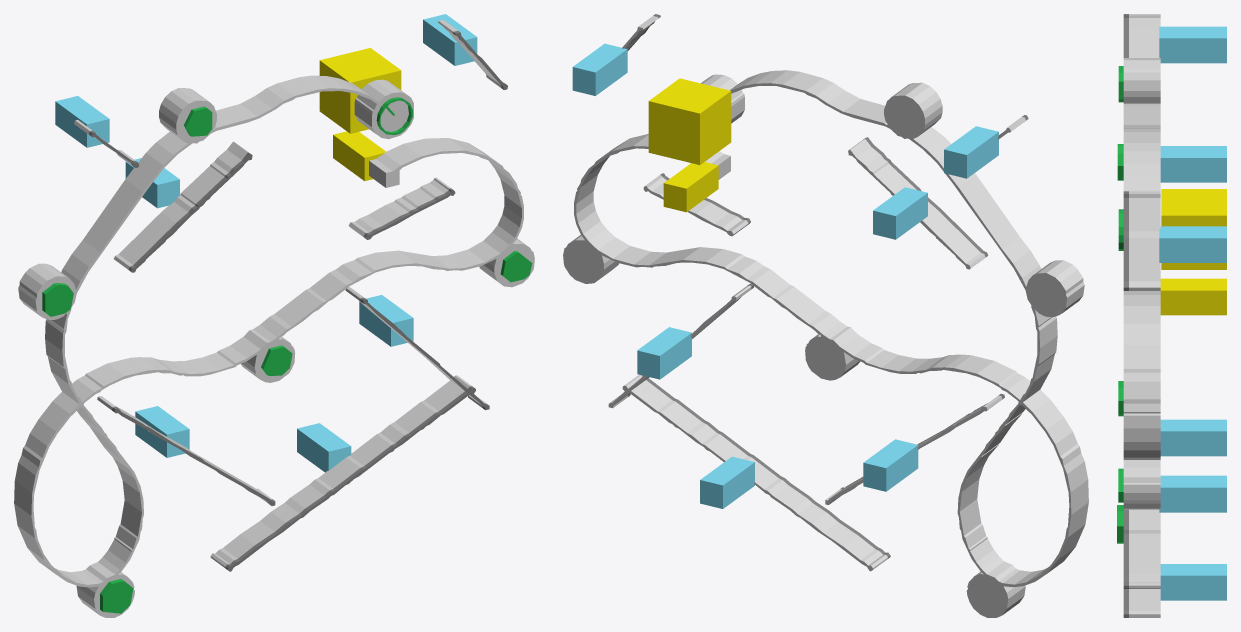
File: demoplanerv5_from_sreenshot13.obj
The picture shows the model from 3 angles, left to right: view 1: azimuth 30°, elevation 25°; view 2: azimuth 150°, elevation 25°; view 3: azimuth 270°, elevation 25°; orthographic projection. The views are drawn at different scales.
Visible parts, largest first — view 1: Object.1, Object.4, Object.26, Object.6, Object.10, Object.19, Object.15, Object.17, Object.5, Object.16, Object.18, Object.27 (+8 smaller); view 2: Object.1, Object.4, Object.26, Object.6, Object.18, Object.17, Object.14, Object.19, Object.15, Object.16, Object.27, Object.5 (+2 smaller); view 3: Object.1, Object.4, Object.3, Object.26, Object.19, Object.16, Object.17, Object.27, Object.18, Object.14, Object.15, Object.7 (+9 smaller).
Part boxes in pixels (x1,y1,x2,y2): Object.1: (14,75,534,617); Object.4: (210,287,486,568); Object.26: (319,48,401,133); Object.6: (114,141,248,269); Object.10: (225,297,489,571); Object.19: (55,96,109,147); Object.15: (297,423,351,472); Object.17: (135,406,189,457); Object.5: (348,177,450,237); Object.16: (359,295,413,346); Object.18: (423,14,477,65); Object.27: (333,131,385,181); Object.1: (563,70,1088,617); Object.4: (608,285,887,571); Object.26: (648,78,731,164); Object.6: (848,139,985,269); Object.18: (572,43,627,95); Object.17: (863,439,918,491); Object.14: (873,187,927,239); Object.19: (944,126,998,178); Object.15: (700,456,754,508); Object.16: (637,327,691,379); Object.27: (663,162,718,212); Object.5: (643,175,748,236); Object.1: (1123,58,1160,509); Object.4: (1129,509,1160,617); Object.3: (1129,191,1160,290); Object.26: (1161,189,1226,269); Object.19: (1159,26,1226,63); Object.16: (1159,475,1226,512); Object.17: (1160,419,1226,456); Object.27: (1160,278,1226,315); Object.18: (1159,226,1226,262); Object.14: (1160,146,1226,182); Object.15: (1160,564,1226,600); Object.7: (1129,14,1160,57).
Bounding box in the file's own units: 186 × 177 × 33.02.
